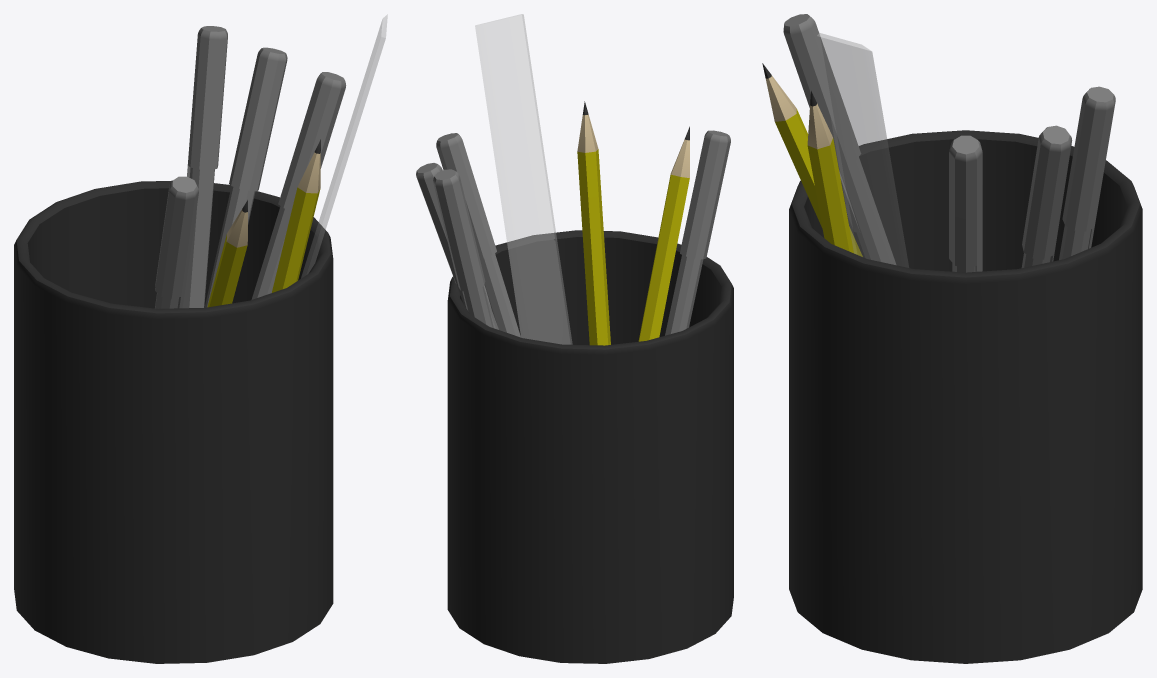
The model's file is stationary.glb.
3 views of the same model, side by side, from view 1: azimuth 30°, elevation 25°; view 2: azimuth 150°, elevation 25°; view 3: azimuth 270°, elevation 25° (orthographic). The views are drawn at different scales.
Visible parts, largest first — view 1: pCylinder4, pCylinder13, pCylinder12, pCylinder11, pCylinder8, pCylinder10, pCube1, Pencil:pCylinder10; view 2: pCylinder4, pCube1, pCylinder8, pCylinder10, pCylinder13, pCylinder11, Pencil:pCylinder10, pCylinder12; view 3: pCylinder4, pCube1, pCylinder8, pCylinder13, pCylinder12, pCylinder11, pCylinder10, Pencil:pCylinder10.
Part boxes in pixels (left/top/right/bottom): pCylinder4: left=14, top=180, right=333, bottom=663; pCylinder13: left=182, top=26, right=227, bottom=308; pCylinder12: left=204, top=47, right=287, bottom=307; pCylinder11: left=251, top=72, right=346, bottom=299; pCylinder8: left=155, top=176, right=198, bottom=308; pCylinder10: left=272, top=139, right=320, bottom=292; pCube1: left=301, top=14, right=387, bottom=278; Pencil:pCylinder10: left=207, top=200, right=247, bottom=307; pCylinder4: left=447, top=230, right=733, bottom=663; pCube1: left=475, top=14, right=572, bottom=344; pCylinder8: left=665, top=130, right=730, bottom=335; pCylinder10: left=577, top=101, right=610, bottom=345; pCylinder13: left=433, top=169, right=493, bottom=328; pCylinder11: left=436, top=133, right=520, bottom=337; Pencil:pCylinder10: left=638, top=126, right=689, bottom=341; pCylinder12: left=416, top=163, right=498, bottom=329; pCylinder4: left=789, top=130, right=1142, bottom=663; pCube1: left=817, top=33, right=908, bottom=267; pCylinder8: left=783, top=14, right=896, bottom=264; pCylinder13: left=1059, top=86, right=1115, bottom=259; pCylinder12: left=1021, top=125, right=1072, bottom=267; pCylinder11: left=949, top=135, right=982, bottom=272; pCylinder10: left=807, top=91, right=853, bottom=253; Pencil:pCylinder10: left=762, top=63, right=862, bottom=256.
Bounding box in the file's own units: 2.24 × 3.95 × 2.15.
